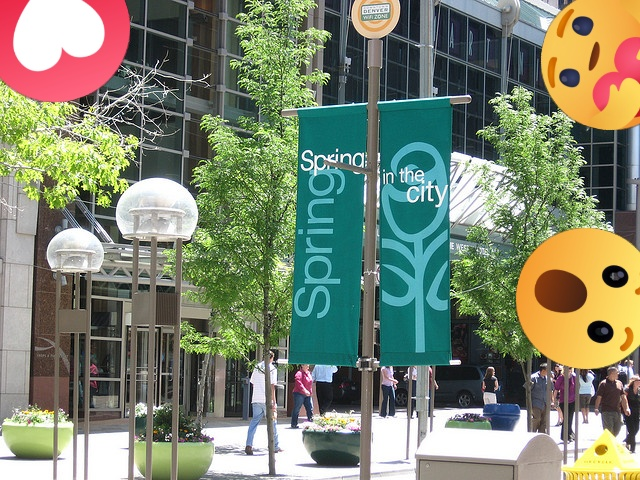care: (541, 0, 640, 130)
love: (0, 0, 130, 102)
wow: (516, 228, 640, 369)
